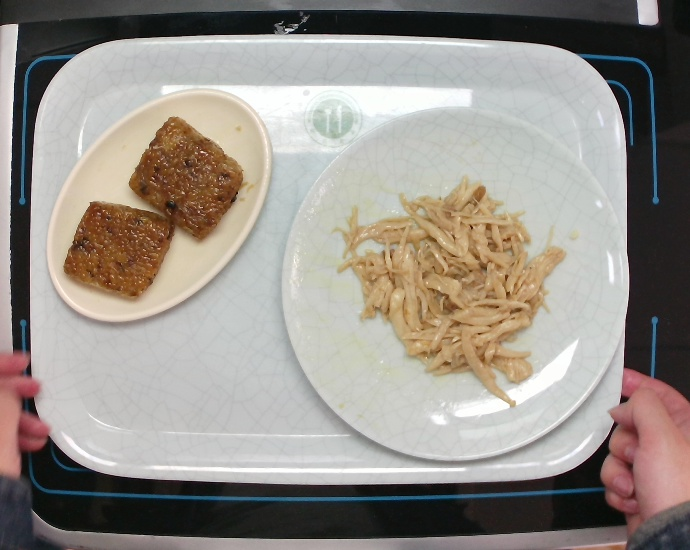JYsf-Da_Yuan_Pan: (272, 101, 635, 468)
JYsf-Tuo_Yuan_Wan: (42, 84, 276, 326)
